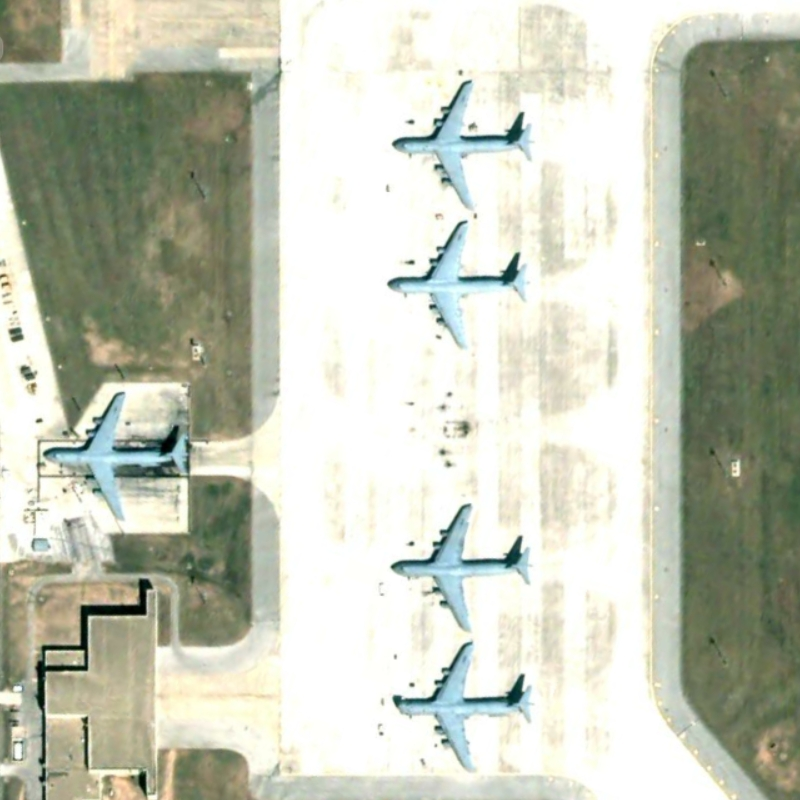A4: (37, 382, 204, 528), (385, 70, 541, 218), (374, 216, 537, 354), (389, 634, 541, 777), (384, 493, 537, 635)
